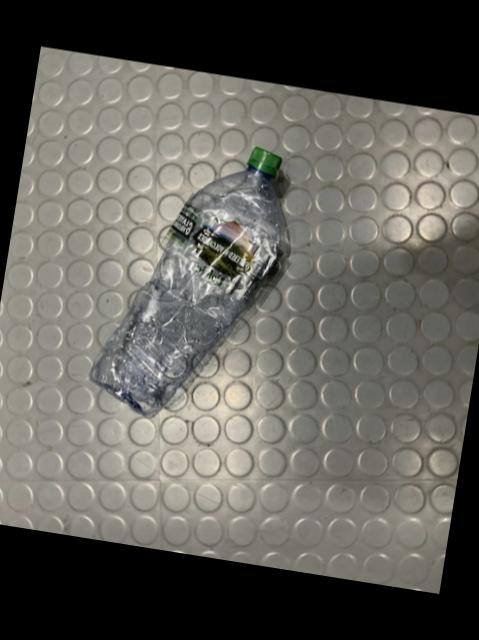plastic: (87, 146, 283, 414)
